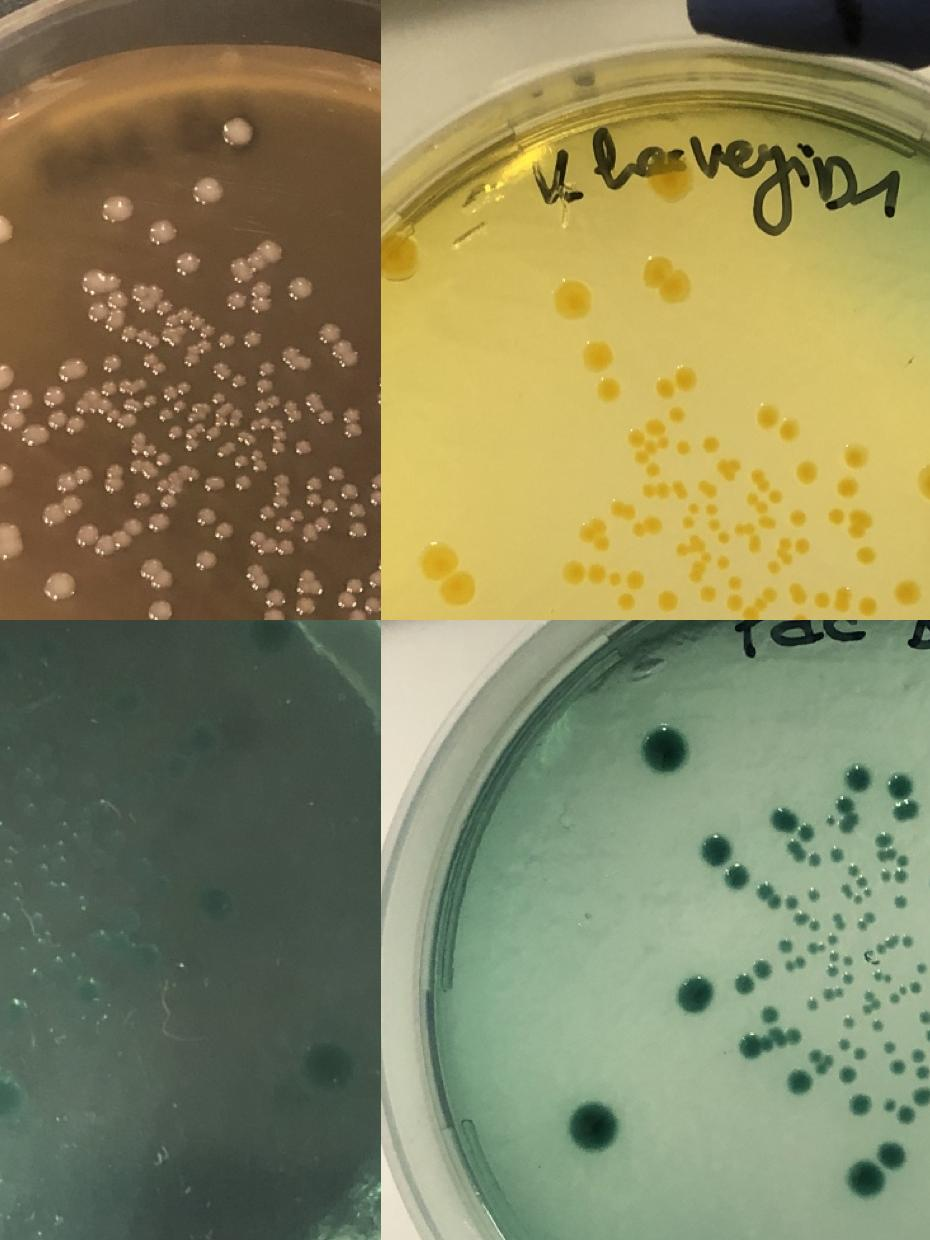pddamselae: (844, 1136, 910, 1202), (24, 385, 86, 448), (39, 461, 95, 528), (328, 463, 368, 542), (84, 271, 128, 332), (75, 515, 142, 555), (336, 575, 381, 620), (570, 1104, 614, 1148), (320, 324, 359, 370), (178, 307, 216, 353), (646, 728, 686, 771), (0, 383, 34, 432), (248, 416, 288, 455), (758, 1004, 790, 1050), (196, 506, 234, 541), (296, 570, 324, 616), (698, 833, 732, 870), (678, 977, 712, 1013), (0, 1075, 25, 1120), (101, 192, 132, 224), (142, 555, 172, 588), (47, 570, 77, 602), (222, 119, 254, 148), (0, 523, 24, 561), (172, 250, 202, 280), (194, 176, 224, 205), (146, 218, 176, 246), (740, 1034, 774, 1058), (754, 880, 782, 909), (889, 982, 921, 1005), (264, 587, 286, 620), (343, 405, 363, 441), (272, 472, 290, 510), (62, 356, 88, 382), (288, 276, 314, 302), (230, 256, 256, 282), (257, 238, 283, 264), (305, 474, 324, 506), (252, 282, 270, 315), (147, 598, 173, 620), (164, 382, 192, 402), (106, 464, 124, 494), (751, 956, 773, 980), (788, 1070, 809, 1094), (861, 990, 880, 1016), (895, 1104, 917, 1126), (850, 1094, 872, 1116), (834, 1064, 856, 1086), (733, 974, 755, 996), (727, 866, 749, 888), (771, 808, 793, 830), (896, 799, 918, 821), (890, 774, 912, 796), (848, 768, 870, 790), (248, 564, 268, 588), (283, 399, 303, 423), (118, 378, 146, 395), (249, 446, 266, 473), (369, 552, 381, 590), (369, 471, 381, 509), (256, 395, 280, 414), (198, 551, 218, 573), (150, 510, 170, 532), (204, 475, 224, 496), (911, 1085, 930, 1107), (855, 876, 874, 898), (0, 360, 13, 391), (856, 912, 876, 932), (786, 840, 806, 860), (816, 1054, 834, 1076), (875, 937, 896, 955), (0, 215, 13, 244), (784, 956, 806, 972), (840, 810, 856, 832), (825, 952, 840, 975), (832, 911, 847, 934), (0, 462, 13, 488), (306, 392, 324, 410), (104, 354, 122, 372), (142, 352, 160, 370), (284, 346, 302, 364), (244, 330, 262, 348), (228, 292, 245, 310), (823, 986, 844, 1000), (798, 824, 814, 842), (877, 848, 897, 861), (873, 971, 892, 984), (806, 942, 825, 954), (250, 531, 264, 545), (278, 518, 292, 532), (316, 516, 330, 530), (292, 508, 306, 522), (324, 499, 338, 513), (130, 459, 144, 473), (297, 441, 311, 455), (320, 410, 334, 424), (106, 409, 120, 423), (122, 396, 136, 410), (102, 382, 116, 396), (232, 374, 246, 388), (215, 363, 229, 377), (260, 507, 274, 520), (162, 494, 176, 507), (136, 493, 150, 506), (238, 477, 251, 491), (235, 452, 248, 466), (156, 452, 170, 465), (144, 393, 158, 406), (258, 379, 272, 392), (260, 361, 274, 374), (220, 333, 234, 346), (212, 390, 224, 404), (160, 300, 172, 314), (884, 1098, 896, 1112), (917, 1066, 929, 1080), (912, 1048, 924, 1062), (795, 912, 807, 926), (787, 894, 799, 908), (158, 479, 170, 492), (855, 1048, 867, 1061), (843, 971, 855, 984), (877, 833, 889, 846), (893, 1061, 905, 1073), (808, 1050, 820, 1062), (883, 1040, 895, 1052), (838, 1038, 850, 1050), (872, 1020, 884, 1032), (842, 1015, 854, 1027), (807, 998, 819, 1010), (917, 962, 929, 974), (842, 955, 854, 967), (780, 940, 792, 952), (902, 936, 914, 948), (826, 932, 838, 944), (809, 919, 821, 931), (895, 895, 907, 907), (852, 894, 864, 906), (807, 888, 819, 900), (840, 884, 852, 896), (879, 869, 891, 881), (894, 869, 906, 881), (848, 864, 860, 876), (896, 855, 908, 867), (808, 854, 820, 866), (831, 848, 843, 860), (824, 814, 836, 826), (920, 1011, 930, 1023), (926, 1029, 930, 1041)
vharveyi: (422, 544, 478, 608), (732, 492, 776, 553), (641, 256, 692, 302), (644, 151, 690, 198), (675, 532, 714, 583), (381, 233, 421, 279), (655, 364, 697, 400), (562, 560, 620, 586), (628, 430, 672, 464), (555, 282, 591, 318), (742, 585, 777, 620), (767, 536, 793, 576), (582, 339, 614, 370), (580, 518, 610, 550), (641, 480, 691, 498), (848, 508, 872, 540), (715, 457, 740, 483), (656, 588, 680, 612), (630, 518, 662, 536), (836, 474, 860, 498), (794, 460, 818, 484), (844, 445, 868, 469), (754, 404, 778, 428), (598, 377, 622, 401), (682, 502, 702, 530), (896, 582, 920, 604), (608, 500, 634, 520), (787, 507, 809, 530), (750, 466, 771, 490), (858, 596, 880, 618), (625, 568, 647, 590), (856, 546, 878, 568), (780, 419, 802, 441), (788, 582, 808, 606), (834, 586, 850, 614), (696, 478, 718, 498), (919, 464, 930, 500), (699, 583, 717, 603), (828, 507, 845, 526), (815, 590, 831, 608), (795, 536, 811, 554), (727, 594, 743, 611), (647, 462, 663, 479), (670, 405, 686, 422), (618, 594, 634, 610), (728, 574, 744, 590), (676, 440, 692, 456), (705, 436, 721, 452), (647, 418, 663, 434), (769, 489, 785, 504), (718, 530, 732, 544), (707, 519, 721, 533), (717, 555, 730, 569), (704, 503, 718, 516), (791, 612, 809, 620)
